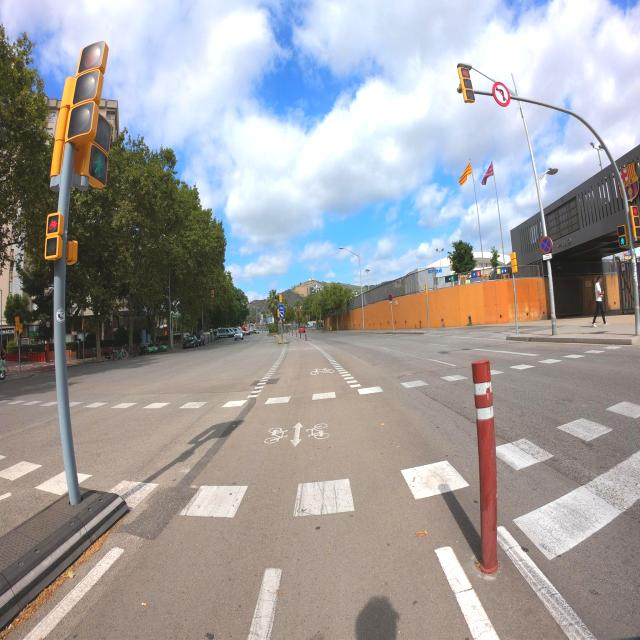car: (216, 327, 235, 340), (142, 341, 160, 354), (182, 334, 198, 348), (232, 328, 245, 340), (197, 336, 206, 346), (298, 326, 308, 333)
